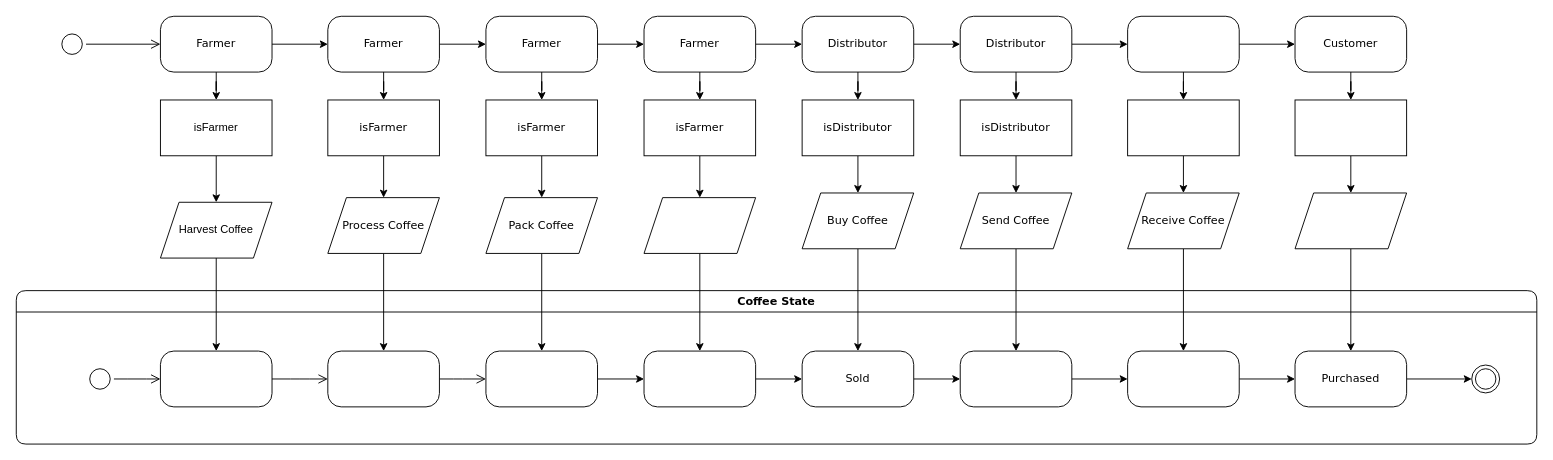
Image size: 1553x460. Some labels were removed from this diagram. The shapes that lost their labels are listed below. From the top down, each one's centre as x and y in pixels, then its label:
(x=1183, y=43): Retailer
(x=1183, y=127): isRetailer
(x=1350, y=127): isCustomer
(x=699, y=225): Offer For Sale
(x=1350, y=220): Purchase Coffee
(x=215, y=378): Harvested
(x=383, y=378): Processed
(x=541, y=378): Packed
(x=699, y=378): For Sale
(x=1015, y=378): Shipped
(x=1183, y=378): Received
